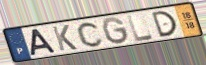A: (30, 27, 58, 57)
C: (76, 20, 105, 48)
D: (150, 9, 179, 39)
G: (101, 16, 131, 46)
K: (50, 24, 79, 52)
L: (125, 13, 156, 44)
